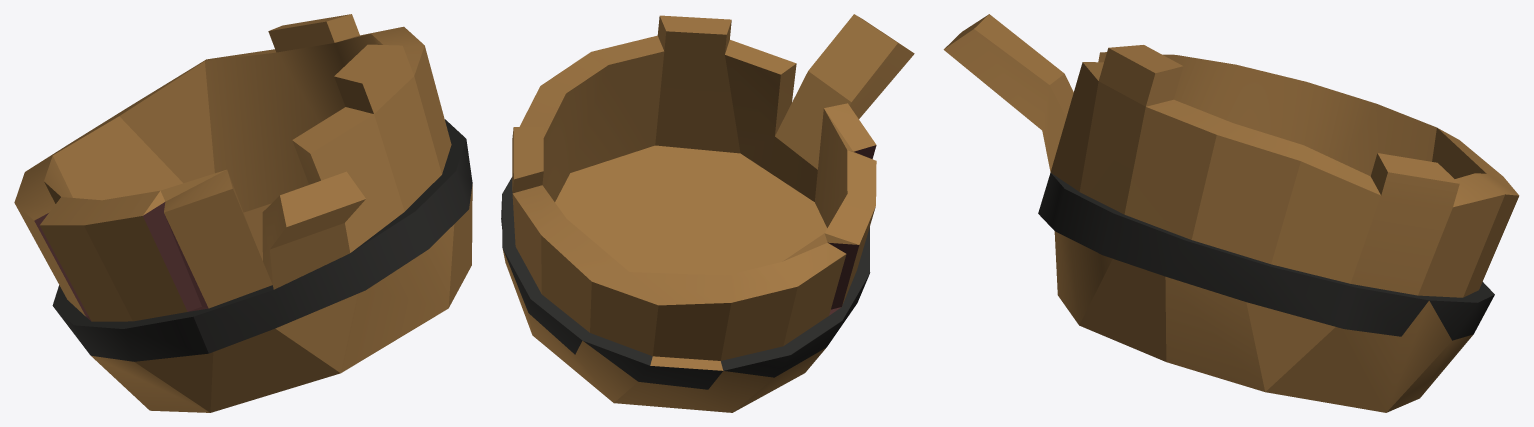
Rendered from ea_prop_container_bowl_01_pre__4__lev1.glb.
3 renders of one model, left to right at view 1: azimuth 30°, elevation 25°; view 2: azimuth 150°, elevation 25°; view 3: azimuth 270°, elevation 25°, orthographic. The views are drawn at different scales.
Parts seen in each view (by area): view 1: ea_prop_container_bowl_01_pre__4__lev1; view 2: ea_prop_container_bowl_01_pre__4__lev1; view 3: ea_prop_container_bowl_01_pre__4__lev1.
Boxes of the visible parts, x1=… form: ea_prop_container_bowl_01_pre__4__lev1: x1=14, y1=14, x2=472, y2=412; ea_prop_container_bowl_01_pre__4__lev1: x1=501, y1=14, x2=914, y2=412; ea_prop_container_bowl_01_pre__4__lev1: x1=943, y1=14, x2=1519, y2=412.
Bounding box in the file's own units: 0.4458 × 0.3855 × 0.5378.
1 material, 1 textured.
